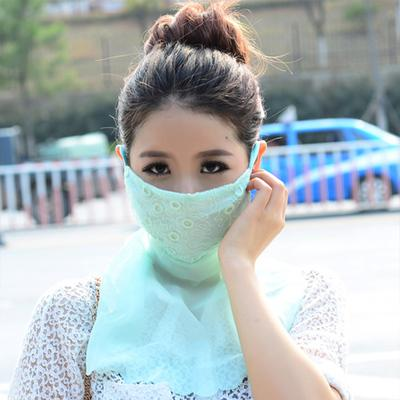OK: (132, 145, 248, 261)
